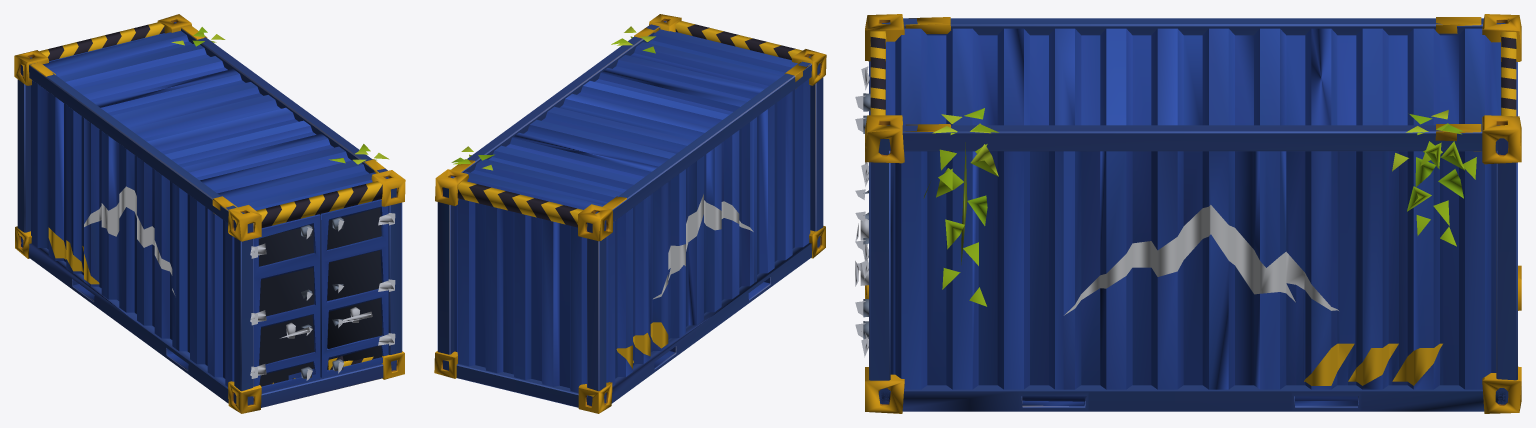
Rendered from shipping_container.glb.
3 views of the same model, side by side, from view 1: azimuth 30°, elevation 25°; view 2: azimuth 150°, elevation 25°; view 3: azimuth 270°, elevation 25° (orthographic). The views are drawn at different scales.
Visible parts, largest first — view 1: shipping_container; view 2: shipping_container; view 3: shipping_container.
Boxes of the visible parts, x1,y1,x2,y2 form: shipping_container: (14, 14, 405, 413); shipping_container: (434, 14, 826, 413); shipping_container: (855, 14, 1521, 413).
Size of what is drawn, in the model's own units: 0.9193 by 0.9934 by 2.09.
